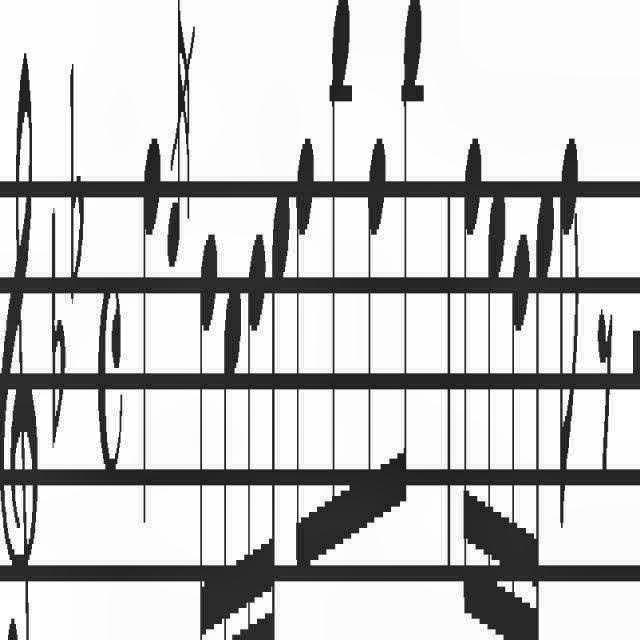Bass-clef: (0, 42, 36, 640)
Bemol: (50, 198, 66, 458), (70, 60, 84, 308)
Eighth-note: (390, 1, 422, 524), (323, 0, 351, 588), (361, 125, 387, 557), (296, 130, 316, 620), (558, 137, 580, 535)
Eighth-rest: (598, 294, 612, 482)
Quarter-note: (141, 125, 161, 537)
Sixteenth-note: (458, 132, 482, 640), (530, 176, 554, 640), (267, 165, 289, 640), (242, 212, 266, 640), (486, 176, 506, 640), (218, 256, 242, 640), (198, 218, 218, 640), (510, 224, 530, 640)
